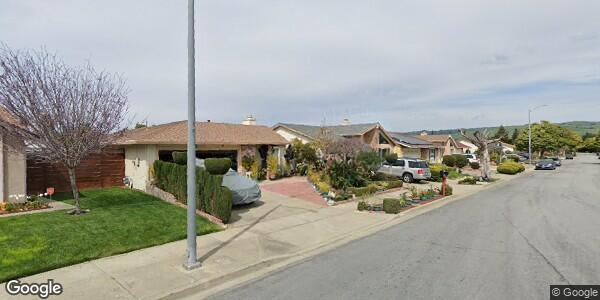Steel_Pole: (181, 1, 202, 271), (526, 102, 551, 168)
